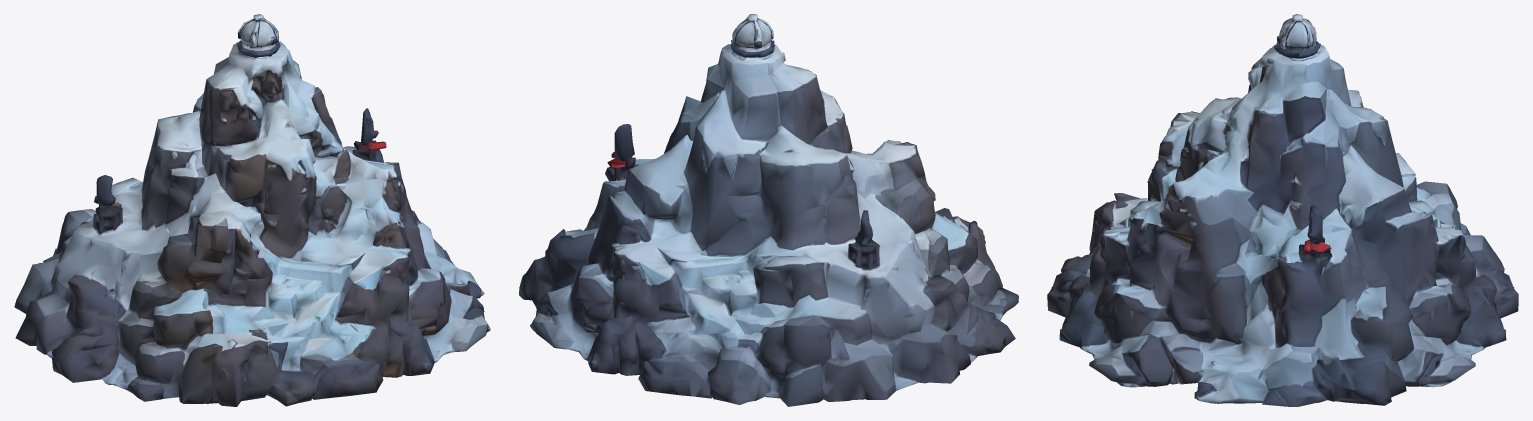
Rendered from env_observatory_mountain.fbx.
The picture shows the model from 3 angles, left to right: view 1: azimuth 30°, elevation 25°; view 2: azimuth 150°, elevation 25°; view 3: azimuth 270°, elevation 25°; orthographic projection. The views are drawn at different scales.
Visible parts, largest first — view 1: env_observatory_mountain_LOD0; view 2: env_observatory_mountain_LOD0; view 3: env_observatory_mountain_LOD0.
Boxes of the visible parts, x1,y1,x2,y2 form: env_observatory_mountain_LOD0: [14, 14, 490, 406]; env_observatory_mountain_LOD0: [519, 14, 1018, 406]; env_observatory_mountain_LOD0: [1047, 14, 1518, 406].
Size of what is drawn, in the model's own units: 0.9792 by 0.6516 by 0.9377.
